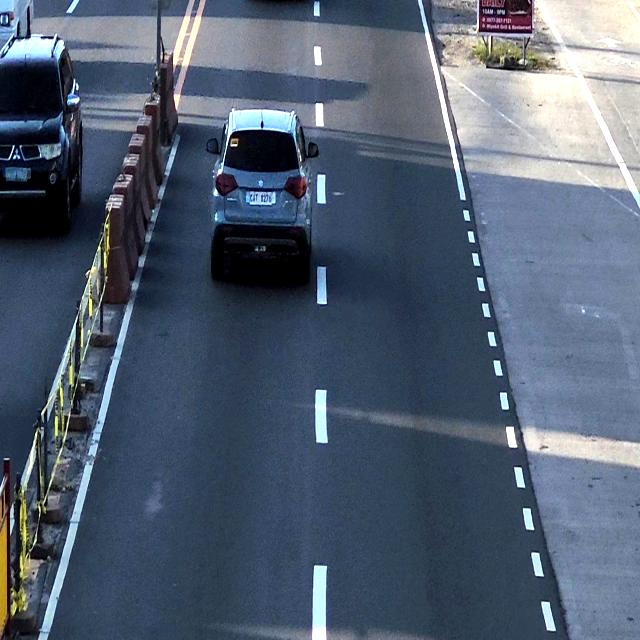Car: (210, 104, 316, 289)
License-Plate: (247, 185, 276, 209)
